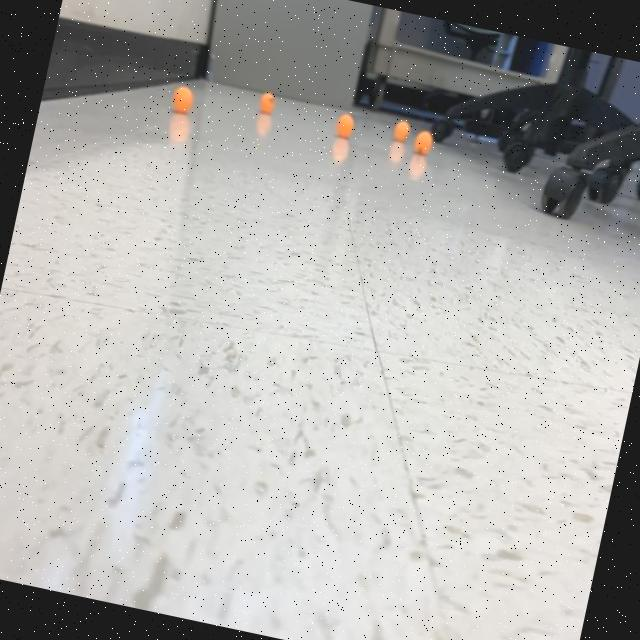ping-pong-ball: (167, 80, 198, 116), (410, 125, 435, 156), (332, 109, 356, 140), (389, 114, 412, 142), (255, 87, 278, 114)
